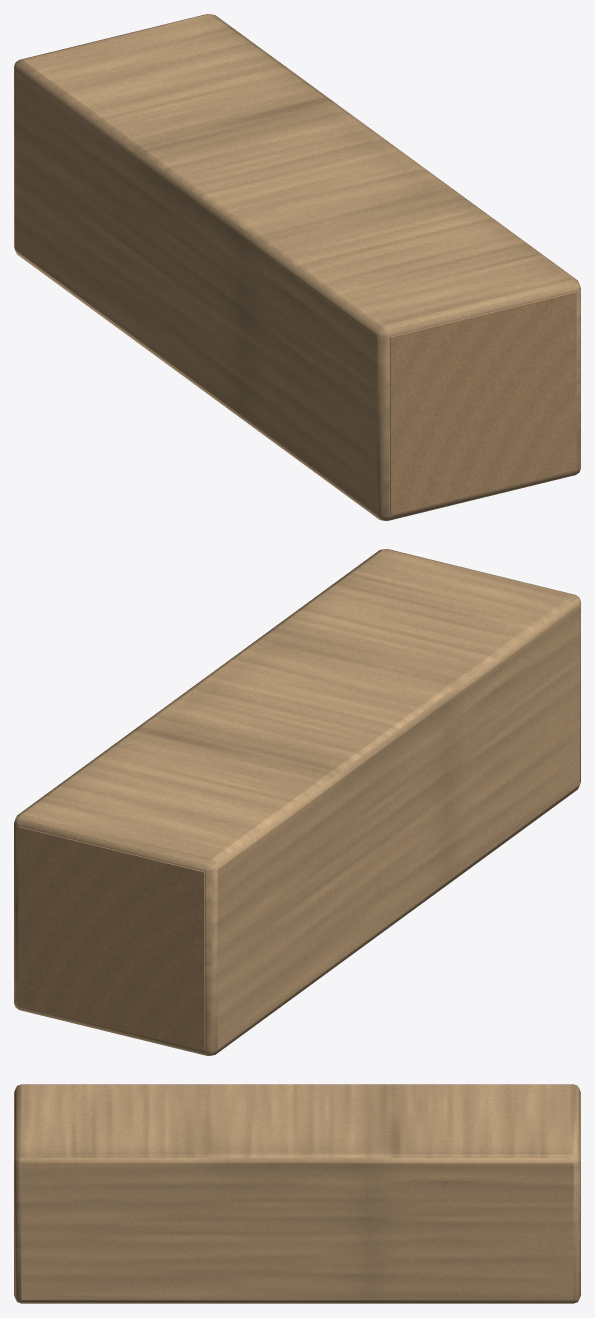
File: 3-crossed-block-layers-1-3.fbx
3 views of the same model, one above another, from view 1: azimuth 30°, elevation 25°; view 2: azimuth 150°, elevation 25°; view 3: azimuth 270°, elevation 25° (orthographic). The views are drawn at different scales.
Parts seen in each view (by area): view 1: crossed-block-layers-1-3; view 2: crossed-block-layers-1-3; view 3: crossed-block-layers-1-3.
Boxes of the visible parts, x1,y1,x2,y2 form: crossed-block-layers-1-3: (14, 14, 580, 520); crossed-block-layers-1-3: (14, 549, 580, 1055); crossed-block-layers-1-3: (14, 1084, 580, 1303).
Bounding box in the file's own units: 1733 × 1600 × 5515.
1 material, 1 textured.
